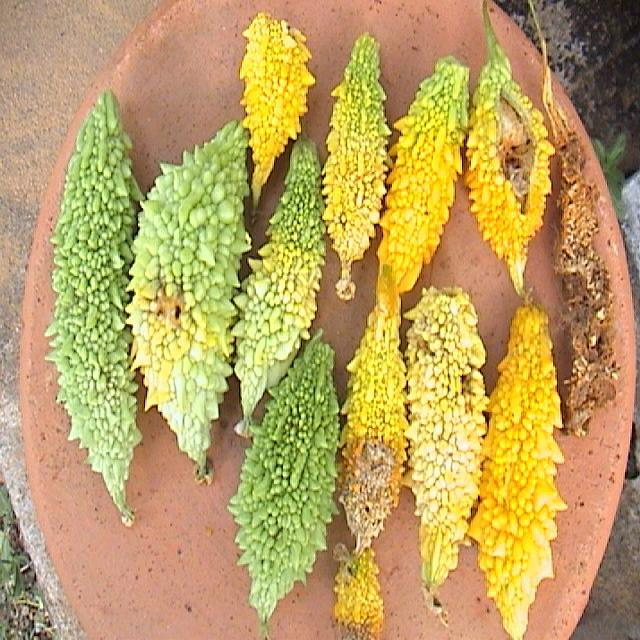Fruit fly: (558, 103, 628, 430), (482, 93, 548, 250), (338, 429, 408, 544), (328, 560, 390, 640), (135, 284, 210, 344)
